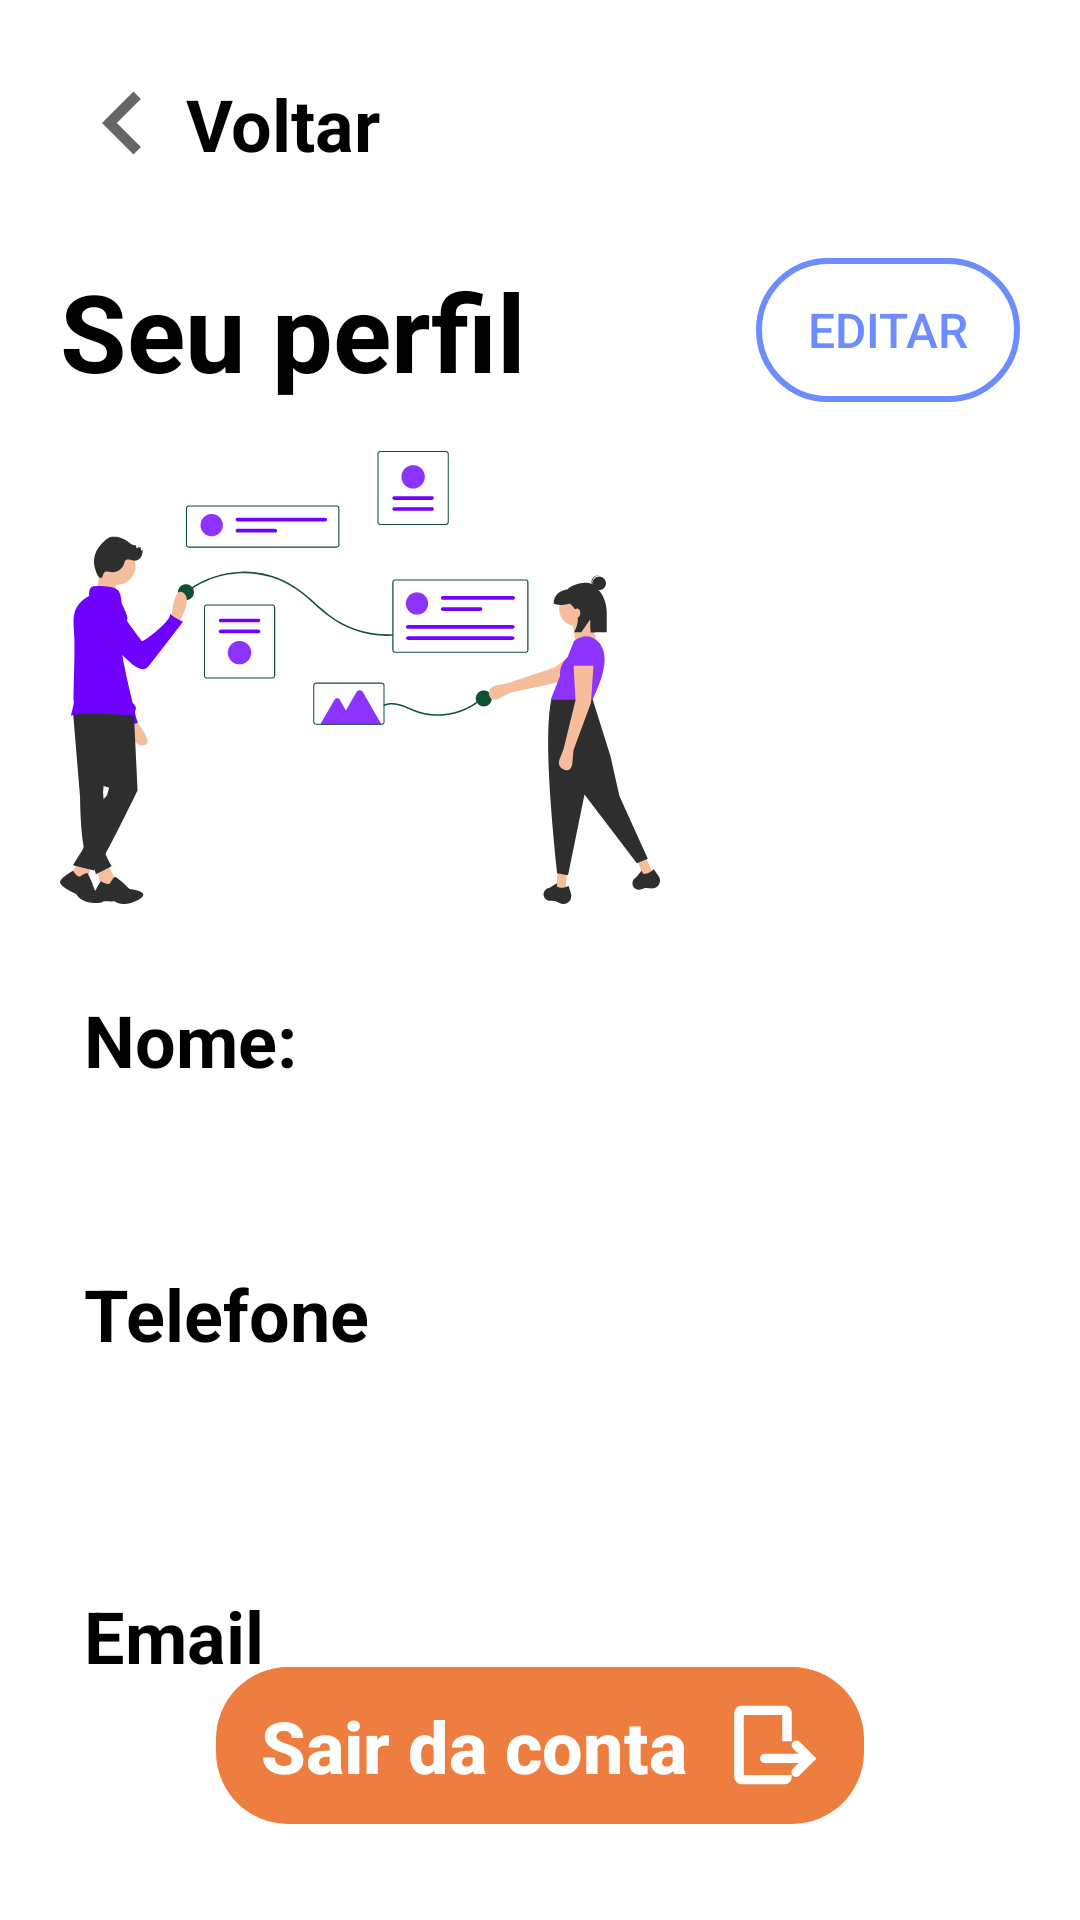

Named icons in this screenshot (1080*1920) and their centers, [x,y]:
arrow left: [121,123]
